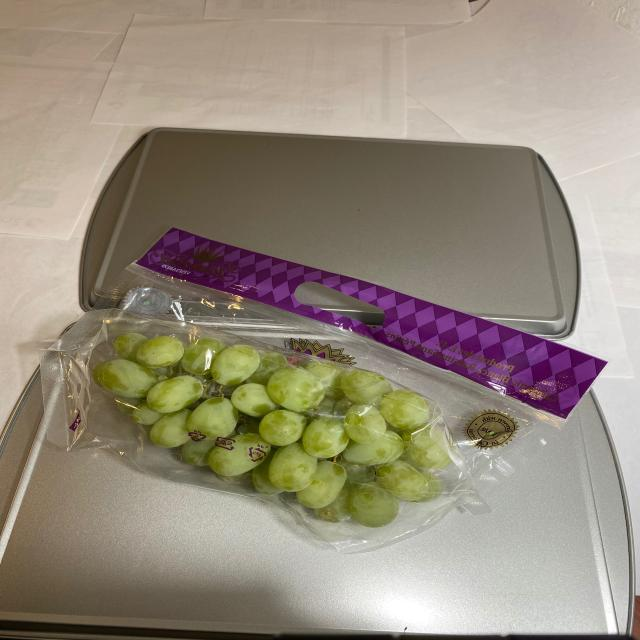grapes: (72, 318, 447, 521)
